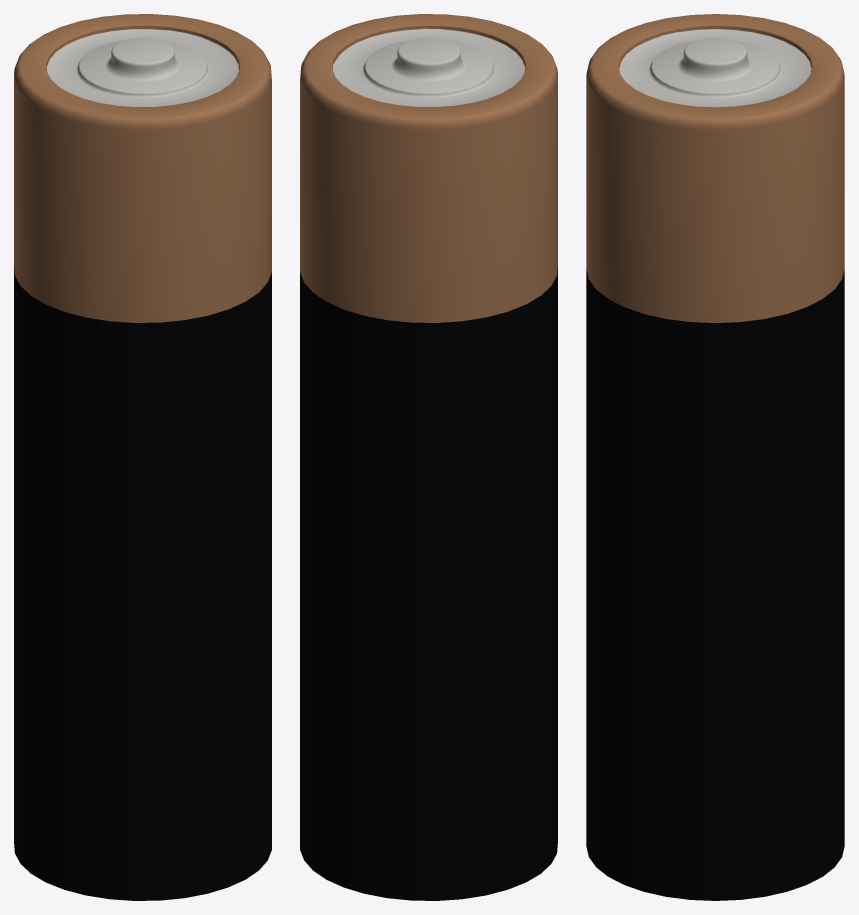
Rendered from battery.fbx.
3 renders of one model, left to right at view 1: azimuth 30°, elevation 25°; view 2: azimuth 150°, elevation 25°; view 3: azimuth 270°, elevation 25°, orthographic.
Parts seen in each view (by area): view 1: Battery; view 2: Battery; view 3: Battery.
Boxes of the visible parts, x1=… form: Battery: x1=14, y1=14, x2=271, y2=900; Battery: x1=300, y1=14, x2=557, y2=900; Battery: x1=586, y1=14, x2=844, y2=900.
Bounding box in the file's own units: 60 × 204 × 60.
